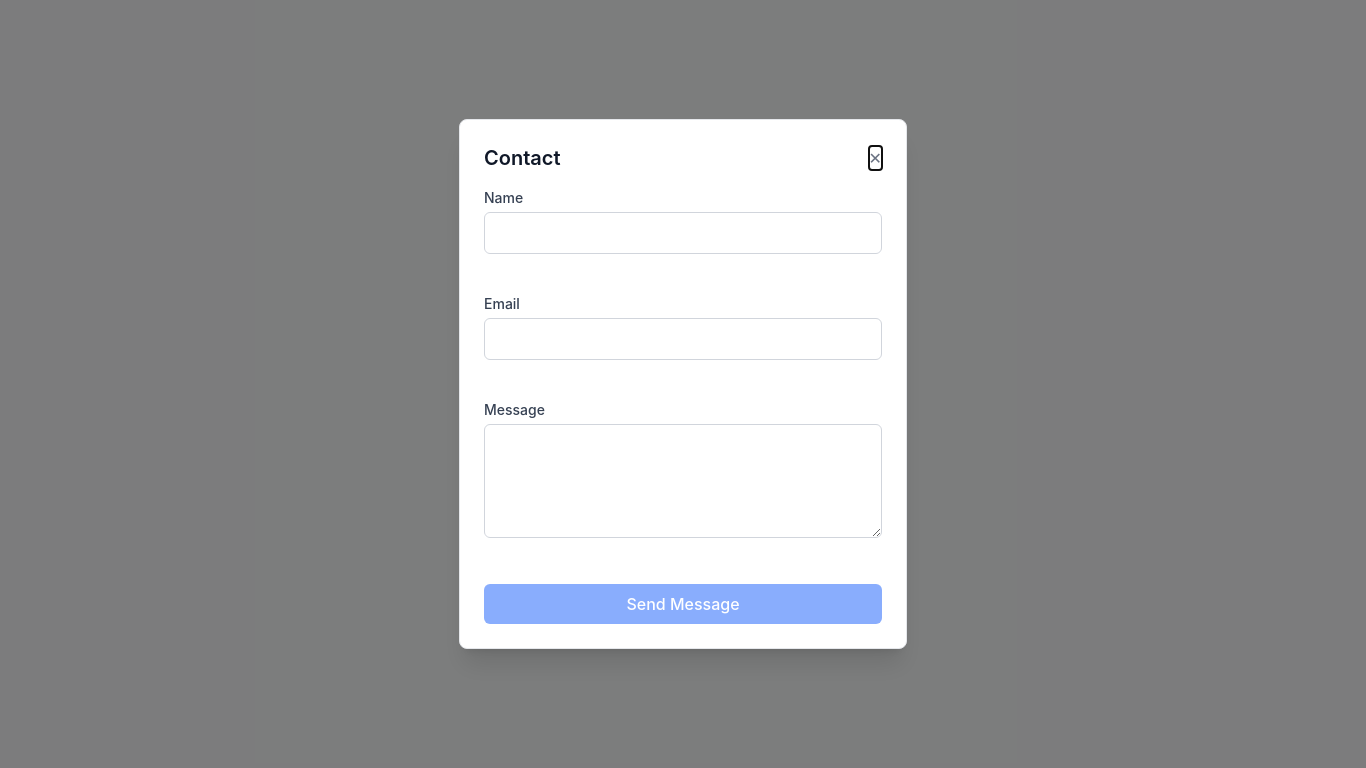
Scenario: ContactModal › shows error on network failure
Type "Test User" into the field labelled "Name" at [683, 233], box [484,212,882,254]
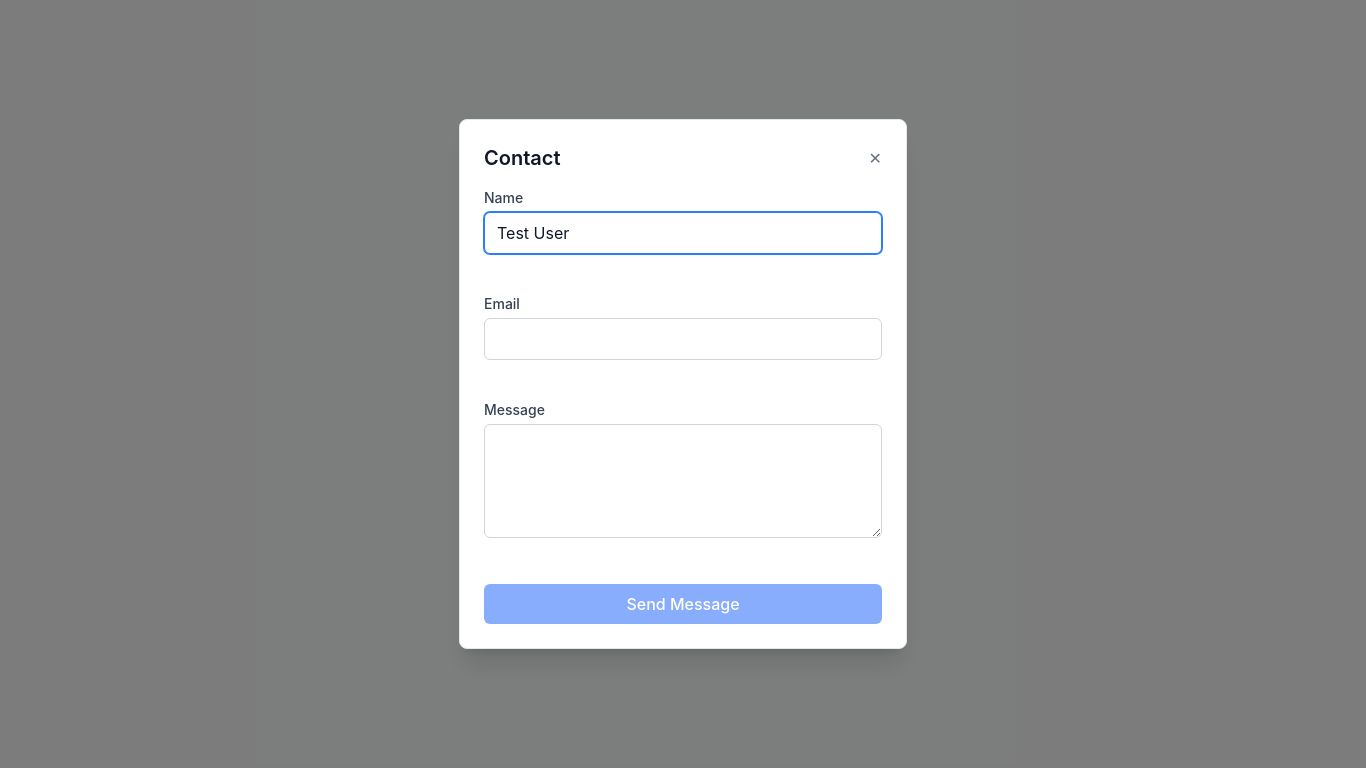
Type "test@example.com" into the field labelled "Email" at [683, 339], box [484,318,882,360]
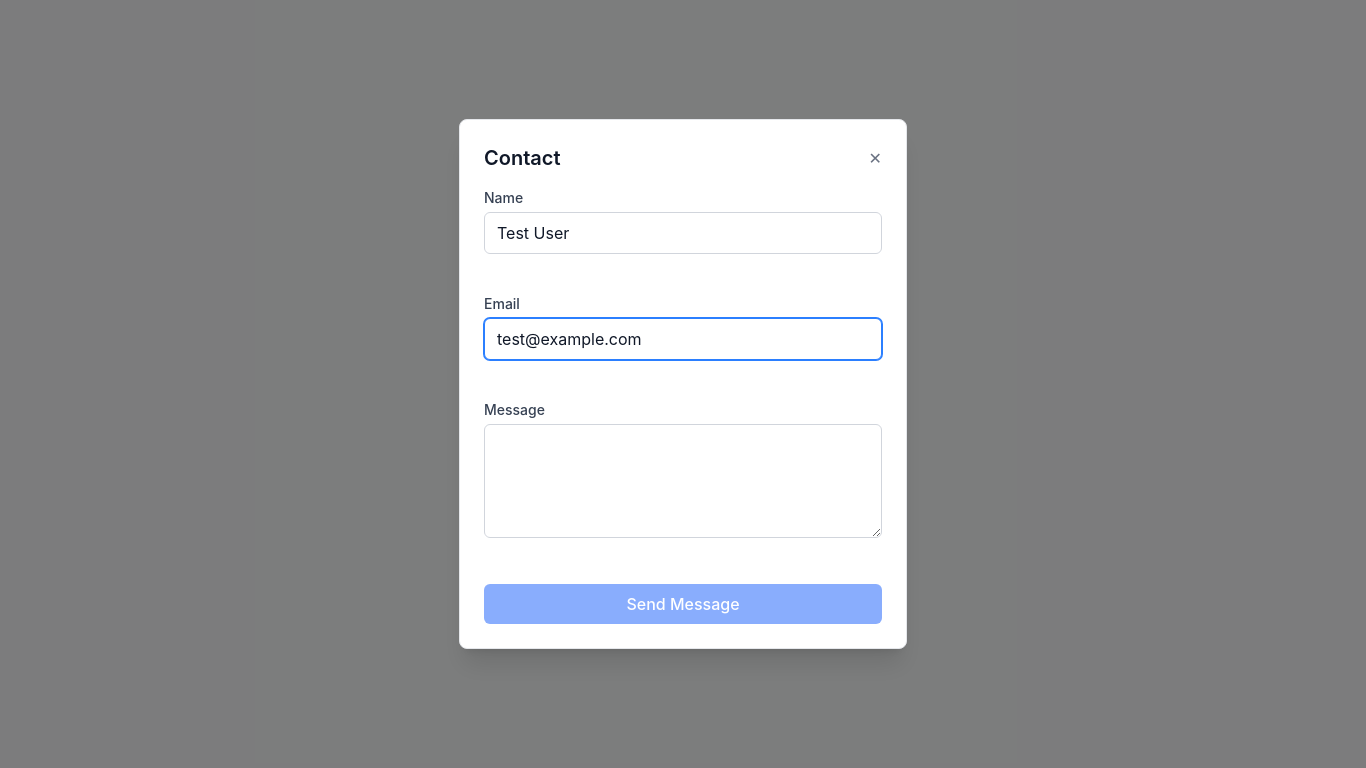
Type "Hello there" into the text box labelled "Message" at [683, 481], box [484,424,882,538]
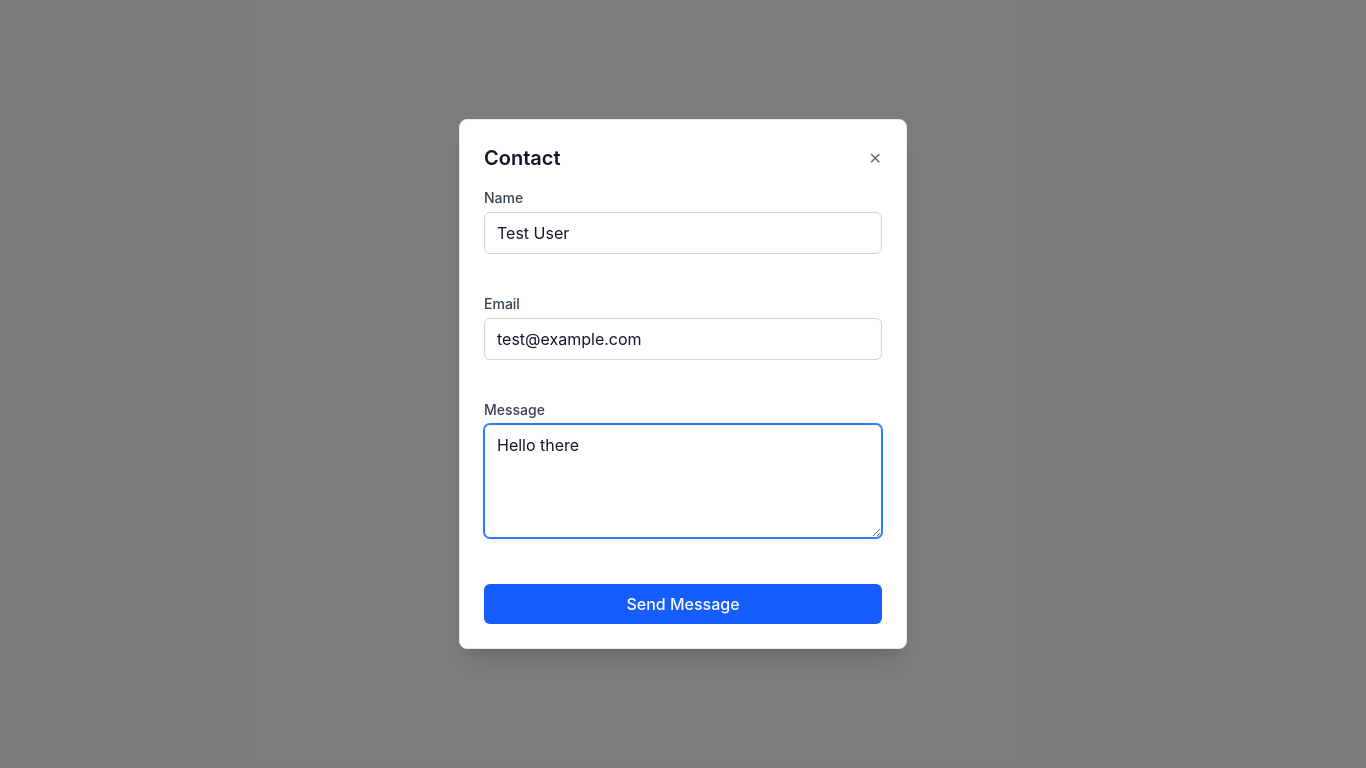
Click the button "Send Message" at [683, 604], box [484,584,882,624]
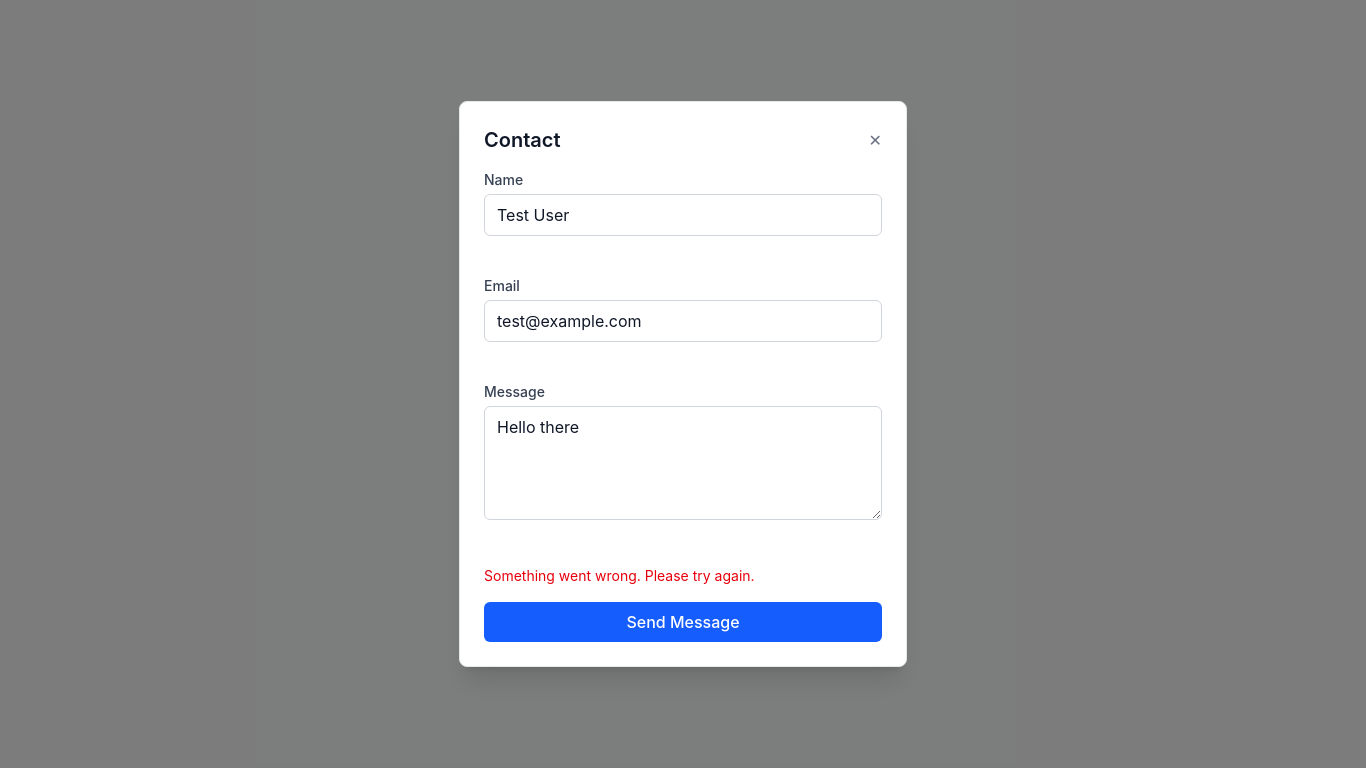
Result: the text "Something went wrong. Please try again." is shown at [484,567,755,584]
